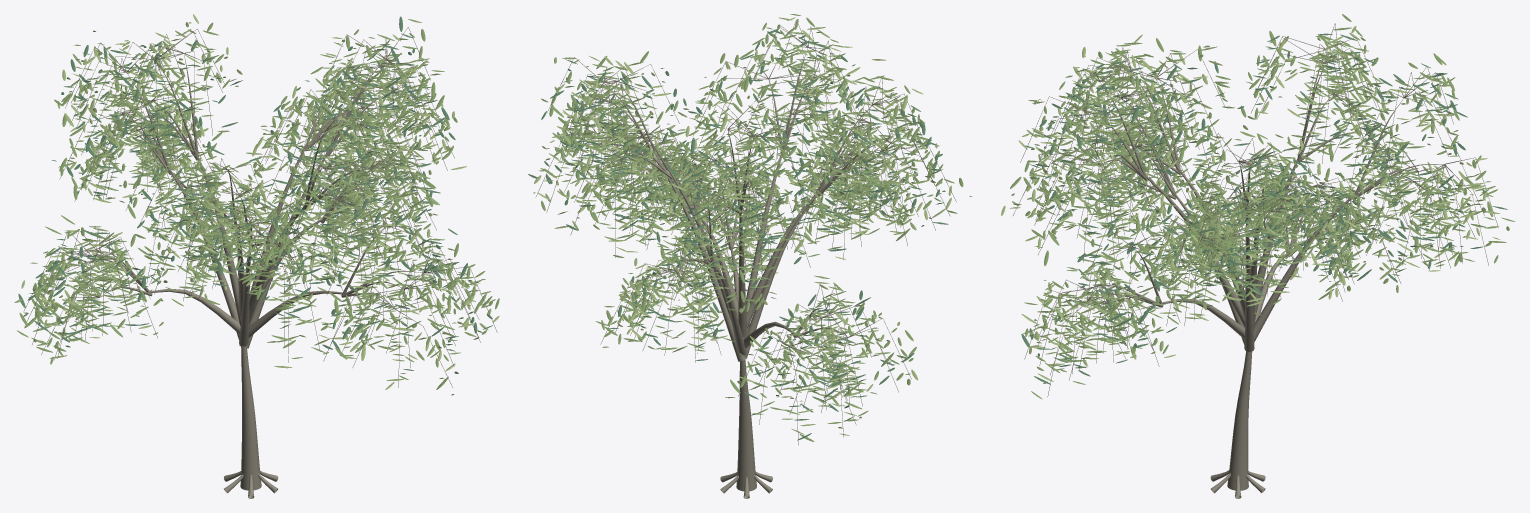
File: tree2b.glb
3 views of the same model, side by side, from view 1: azimuth 30°, elevation 25°; view 2: azimuth 150°, elevation 25°; view 3: azimuth 270°, elevation 25° (orthographic). The views are drawn at different scales.
Parts seen in each view (by area): view 1: Tree2b_Leaf, Tree2b_Trunk, Tree2b_LeafLight, Tree2b_LeafDark; view 2: Tree2b_Leaf, Tree2b_Trunk, Tree2b_LeafLight, Tree2b_LeafDark; view 3: Tree2b_Leaf, Tree2b_Trunk, Tree2b_LeafLight, Tree2b_LeafDark.
Part boxes in pixels (x1,y1,x2,y2): Tree2b_Leaf: (17, 22, 499, 395); Tree2b_Trunk: (23, 27, 497, 498); Tree2b_LeafLight: (14, 14, 499, 389); Tree2b_LeafDark: (18, 16, 492, 373); Tree2b_Leaf: (533, 14, 972, 441); Tree2b_Trunk: (535, 19, 956, 498); Tree2b_LeafLight: (534, 17, 951, 426); Tree2b_LeafDark: (528, 29, 948, 440); Tree2b_Leaf: (1010, 14, 1515, 399); Tree2b_Trunk: (1013, 23, 1498, 498); Tree2b_LeafLight: (1001, 26, 1500, 381); Tree2b_LeafDark: (1021, 33, 1507, 384).
Bounding box in the file's own units: 10.67 × 11.29 × 11.93.
